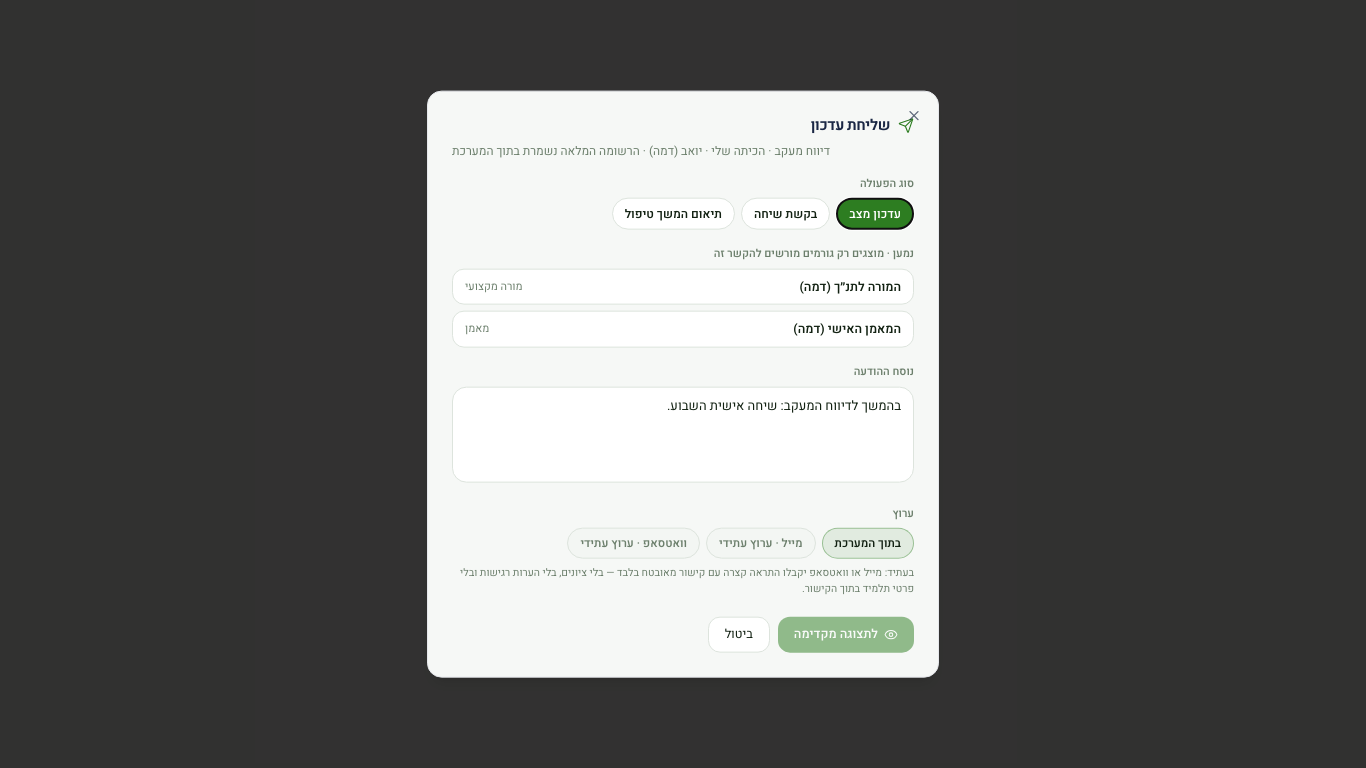
Test: SendUpdateDialog — safe preview flow › after confirmation: explicit no-send statement, never a fake 'נשלח'
Click the text "המורה לתנ״ך (דמה)". click: click(850, 286)
box: [800,277,901,296]
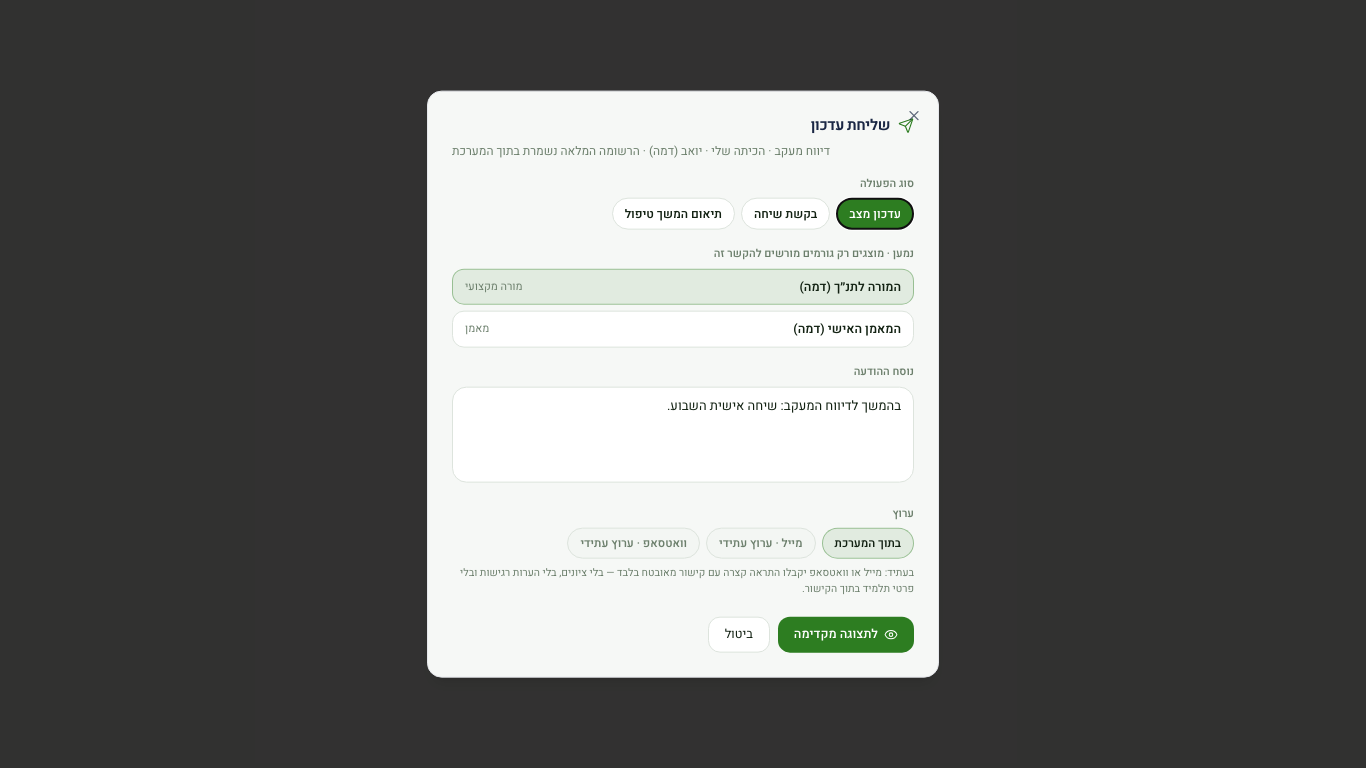
Click the button "לתצוגה מקדימה". click: click(846, 634)
box: [778,616,914,652]
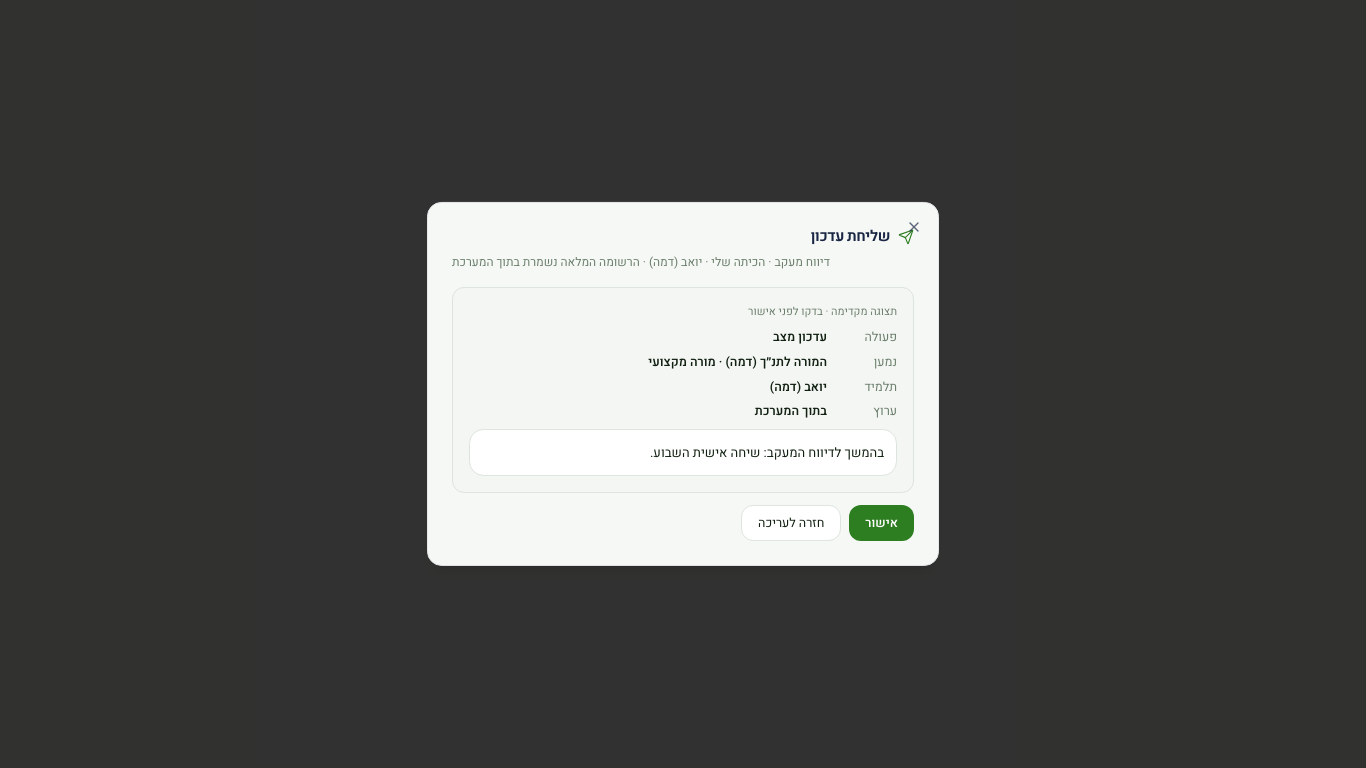
Click the button "אישור". click: click(882, 523)
box: [849,505,914,541]
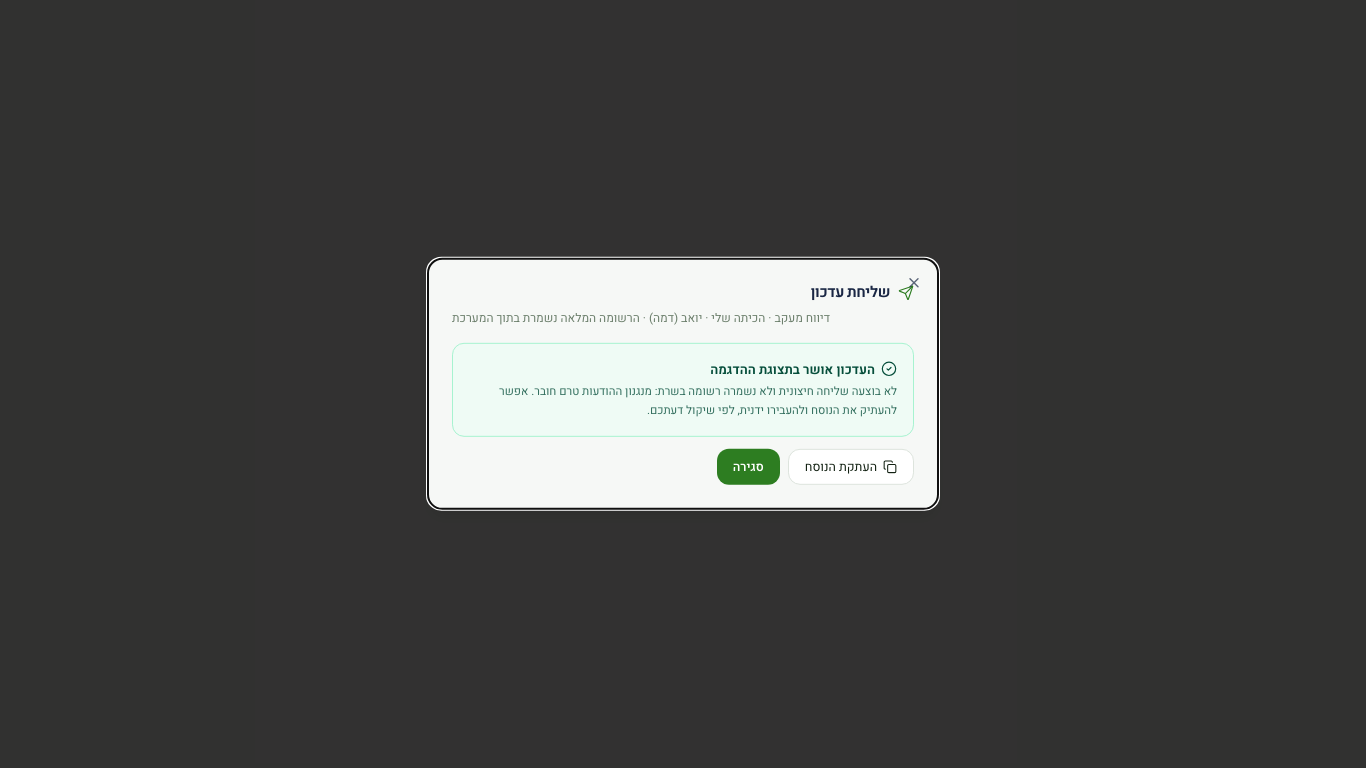
Now the text "לא נשמרה רשומה בשרת" is shown, box [499,383,897,418]
